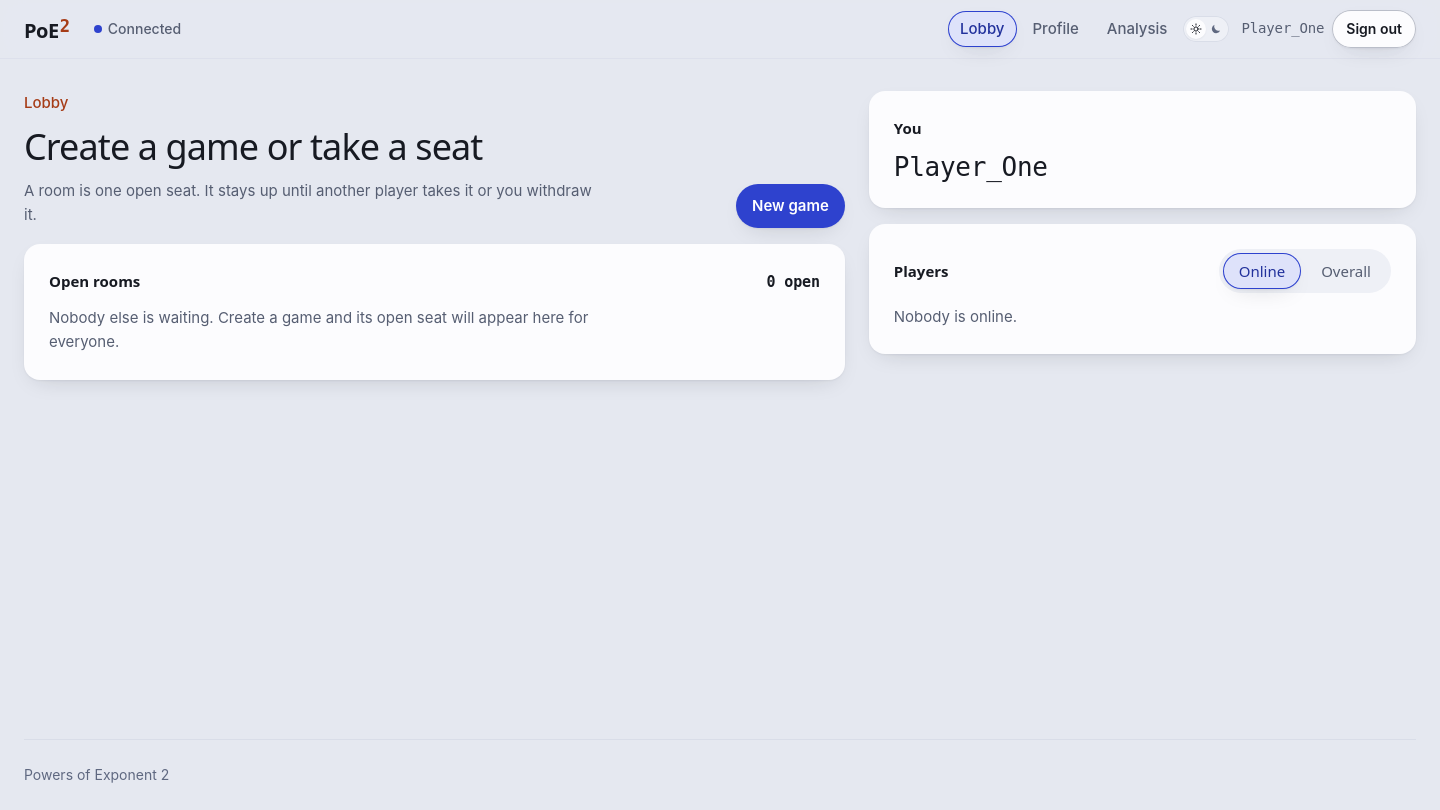
Scenario: lobby player directory › renders an empty Overall directory
Click the radio button labelled "Overall".
click(1346, 271)  # box [1321,261,1371,281]
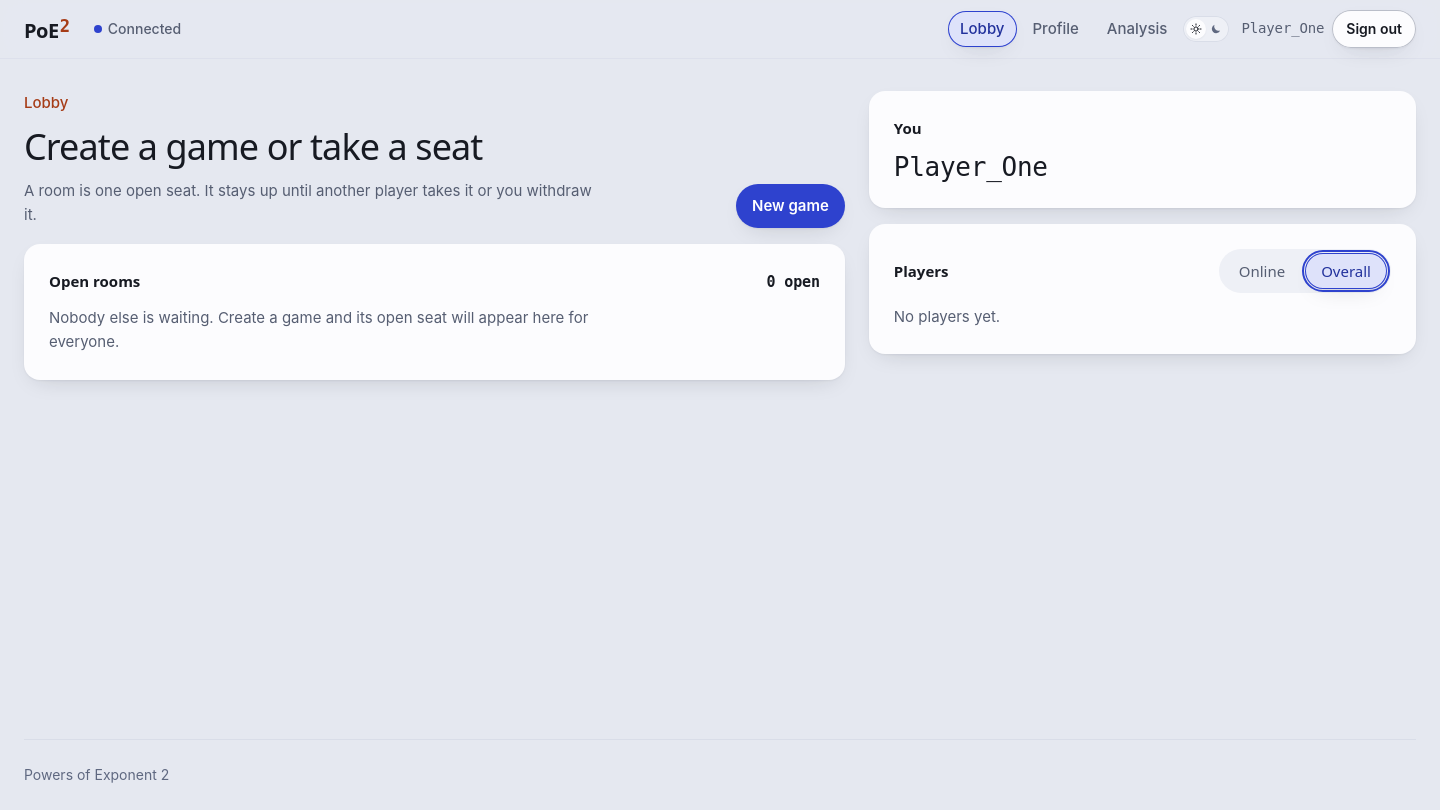
Expected: the text "No players yet." is shown, [894,307,1000,326]
